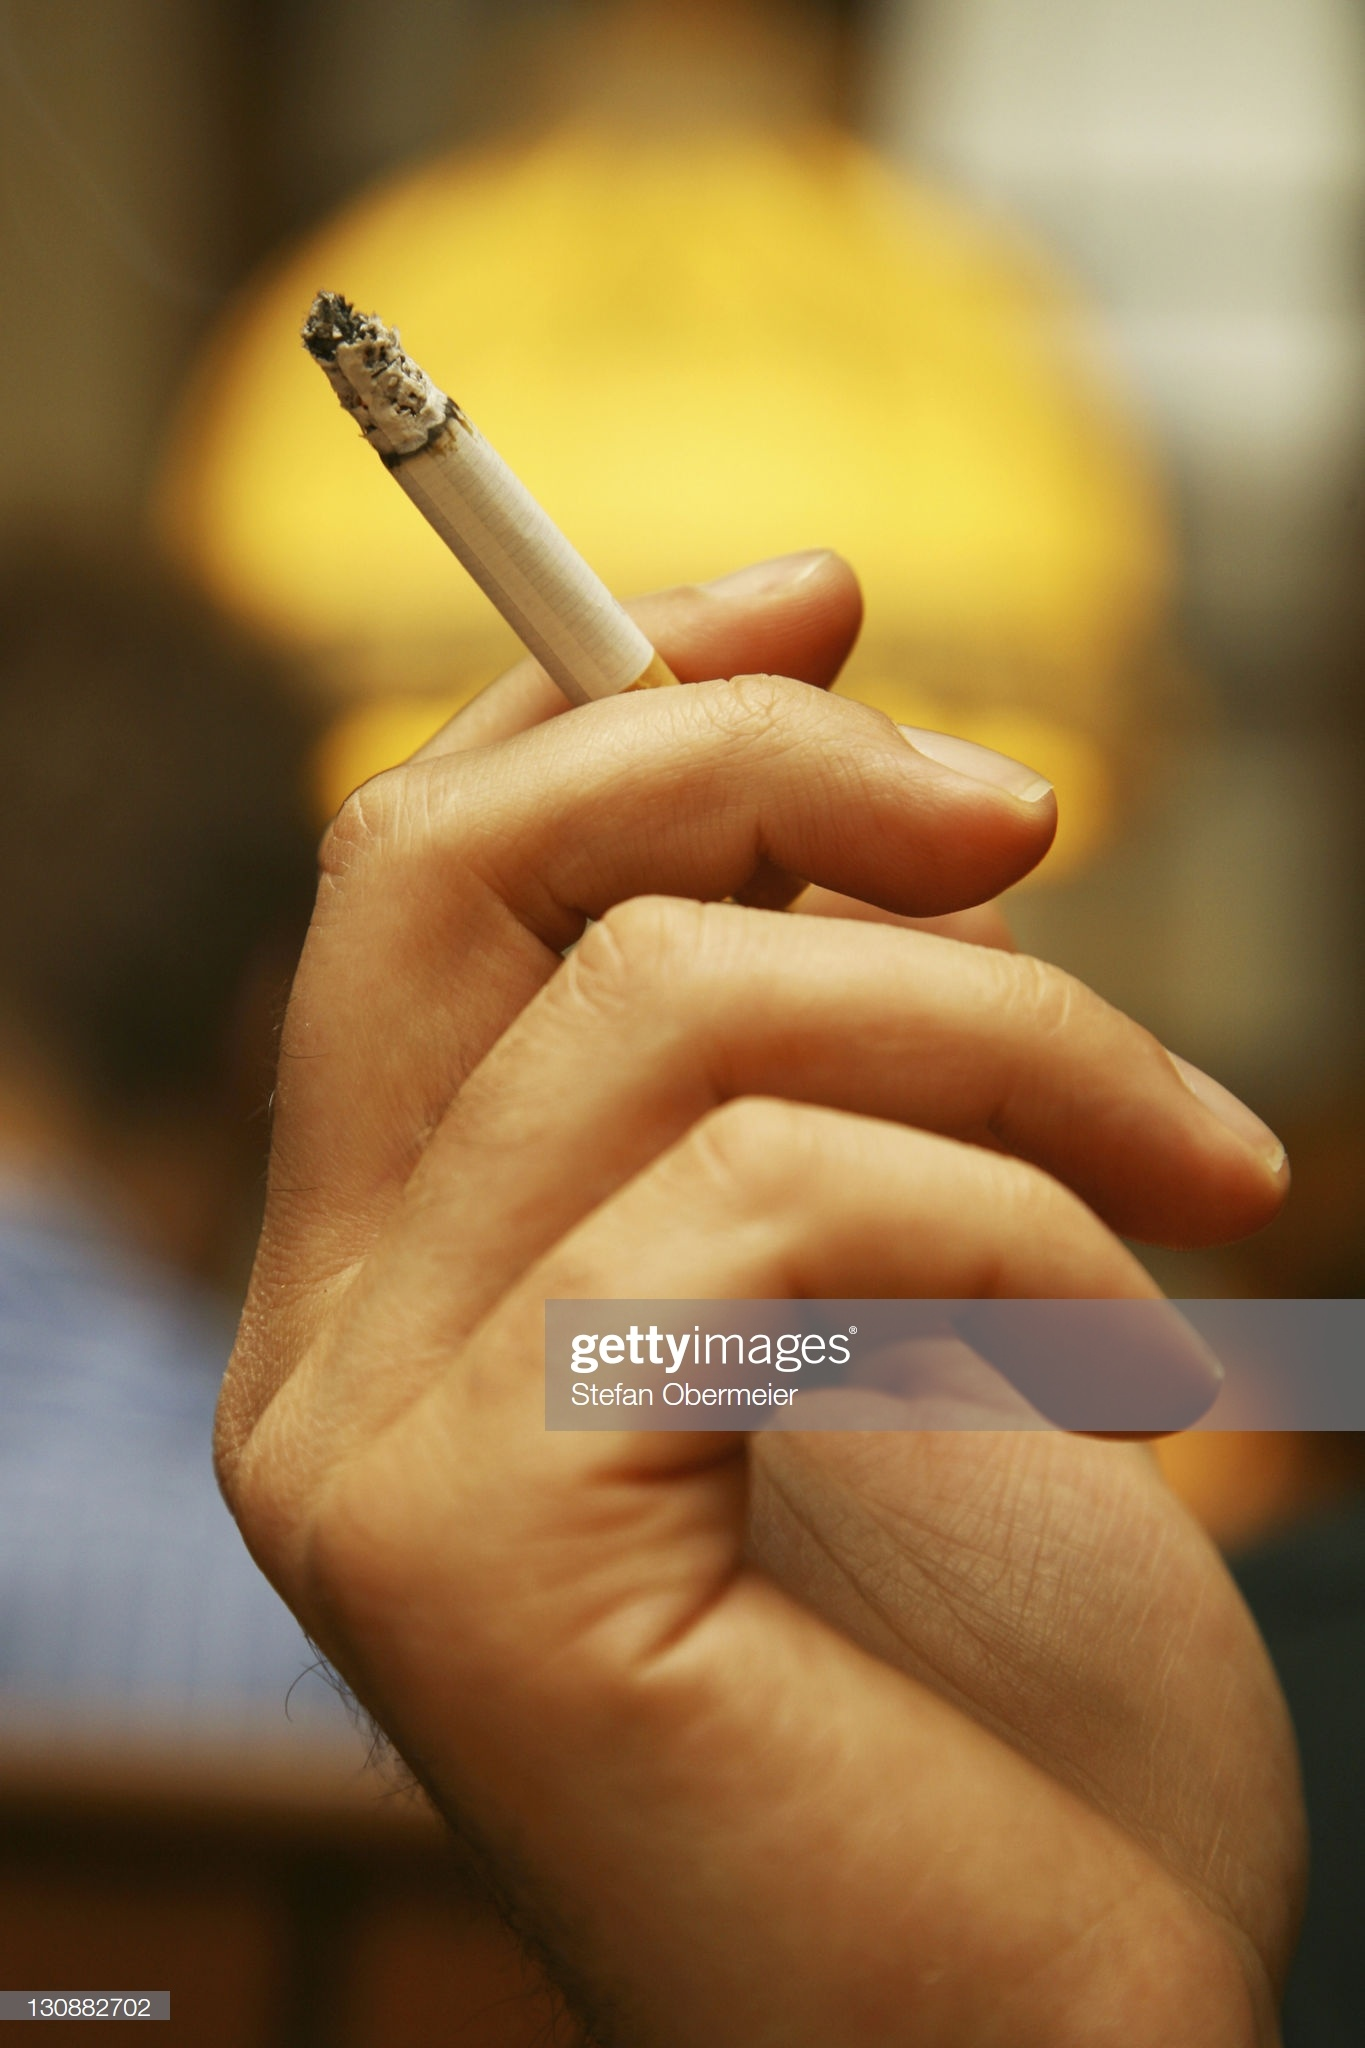sigaretta: (296, 286, 724, 758)
